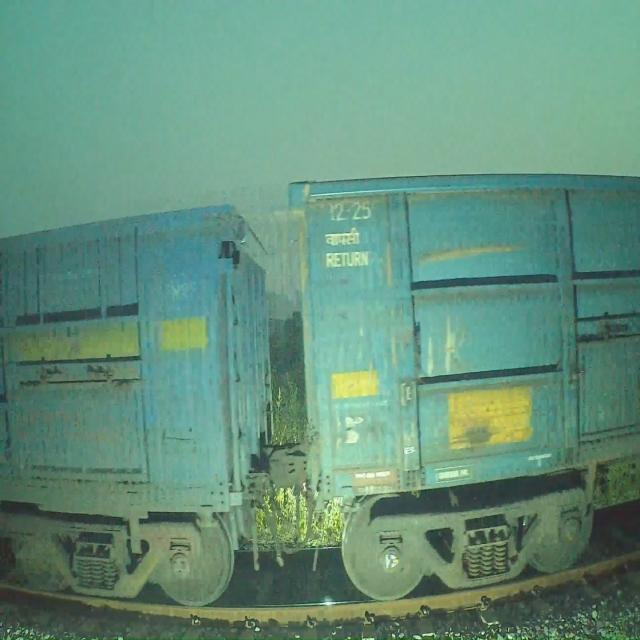WAgon-uic: (286, 168, 640, 604), (0, 199, 276, 611)
